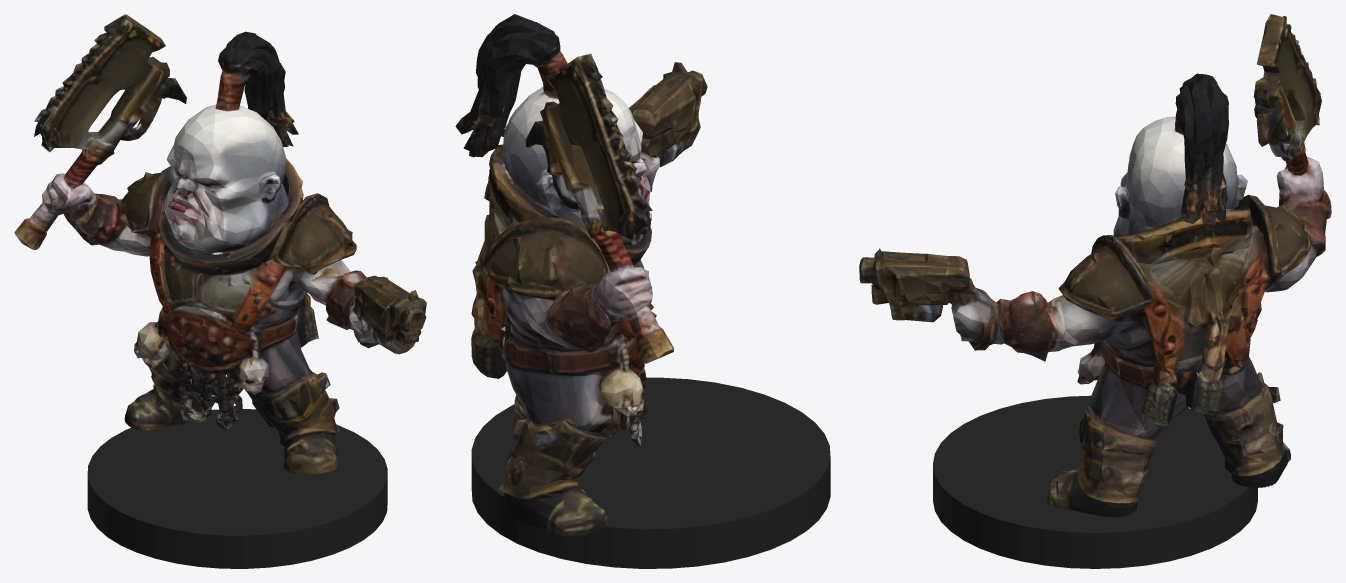
File: goliath-forge-tyrant-chainaxe.glb
3 renders of one model, left to right at view 1: azimuth 30°, elevation 25°; view 2: azimuth 150°, elevation 25°; view 3: azimuth 270°, elevation 25°, orthographic. The views are drawn at different scales.
Parts seen in each view (by area): view 1: figure, base; view 2: figure, base; view 3: figure, base.
Boxes of the visible parts, x1,y1,x2,y2 form: figure: (14,14,426,474); base: (87,409,387,568); figure: (455,14,707,536); base: (471,377,830,568); figure: (859,14,1331,517); base: (933,395,1257,568).
Bounding box in the file's own units: 0.9843 × 1.57 × 1.43.
Materials: 2 (1 with a texture image).
